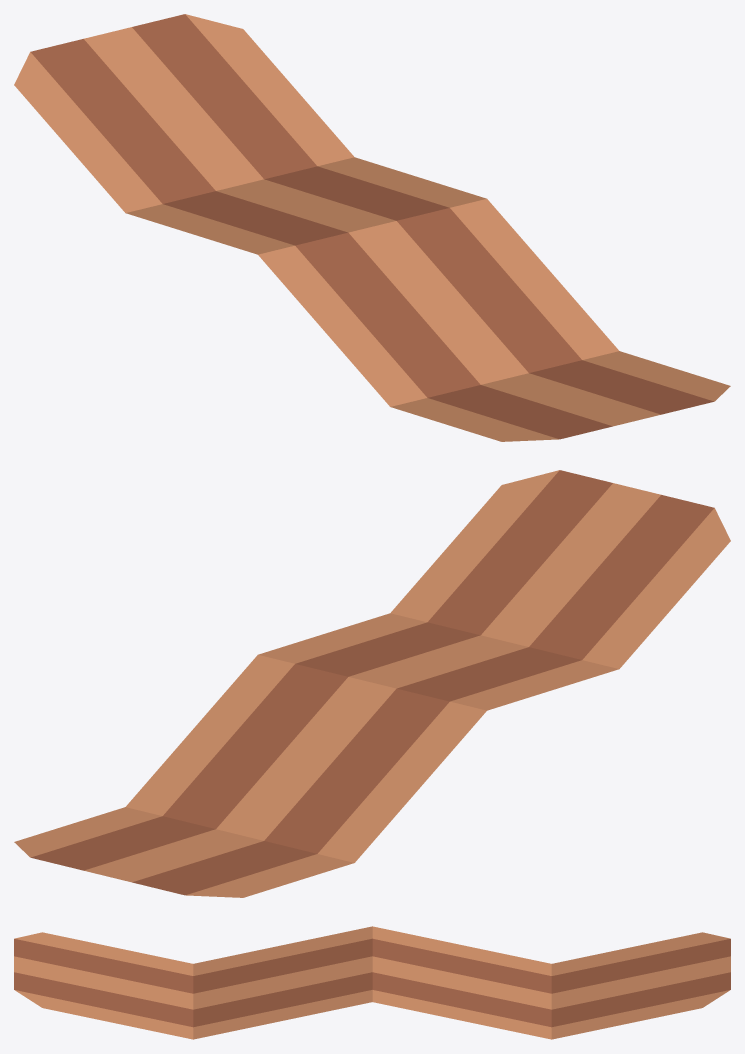
Rendered from bacon.fbx.
The picture shows the model from 3 angles, top to bottom: view 1: azimuth 30°, elevation 25°; view 2: azimuth 150°, elevation 25°; view 3: azimuth 270°, elevation 25°; orthographic projection. The views are drawn at different scales.
Parts seen in each view (by area): view 1: bacon; view 2: bacon; view 3: bacon.
Boxes of the visible parts, left/top/right/bottom form: bacon: left=14, top=14, right=730, bottom=441; bacon: left=14, top=470, right=730, bottom=897; bacon: left=14, top=926, right=730, bottom=1039.
Size of the model in its own units: 1.3 by 0.3 by 5.2.
